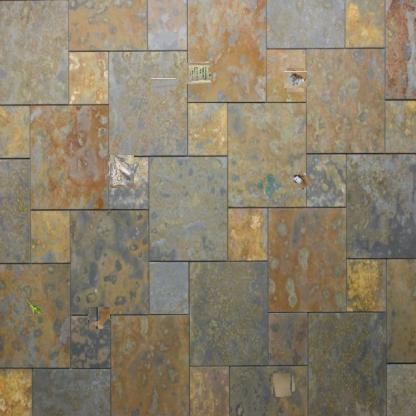dirty: (108, 156, 136, 186), (188, 61, 212, 85), (290, 170, 314, 192), (271, 373, 294, 395), (285, 70, 306, 90), (23, 300, 47, 316), (154, 75, 173, 94)
liquid: (89, 307, 110, 329), (259, 176, 279, 196)
